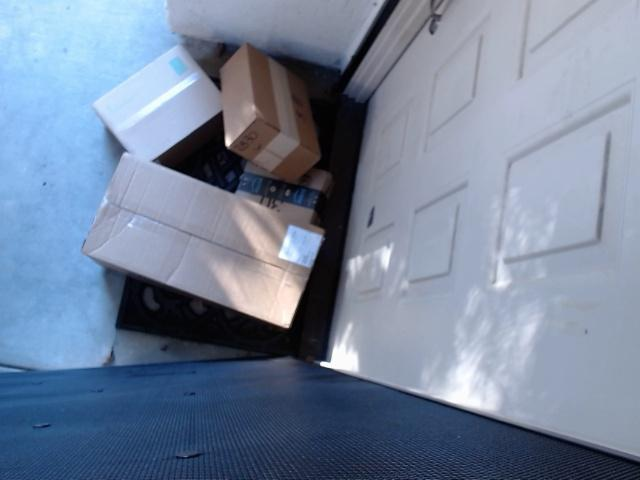box: (59, 153, 321, 335), (72, 43, 229, 154), (208, 33, 326, 175), (229, 151, 344, 236)
